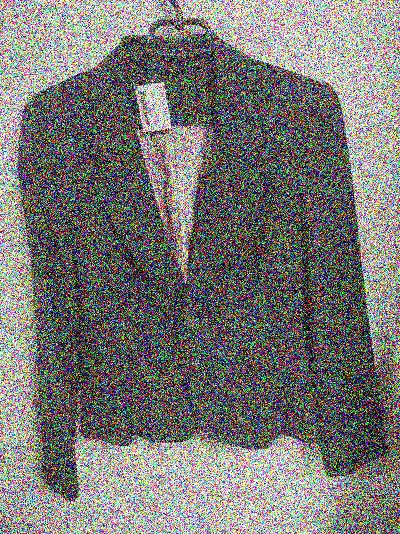Blazer: (3, 40, 385, 507)
